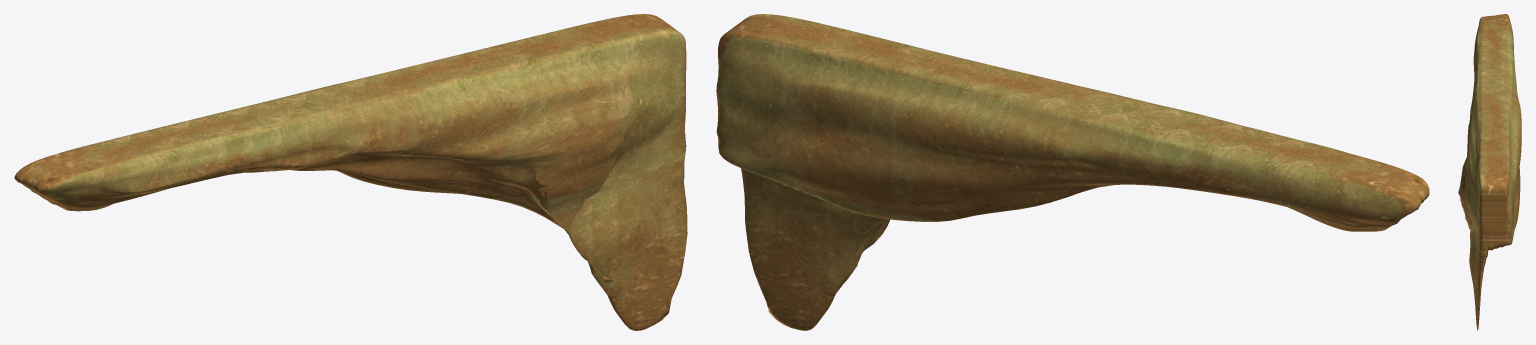
The model's file is Planice_primaria.fbx.
The picture shows the model from 3 angles, left to right: view 1: azimuth 30°, elevation 25°; view 2: azimuth 150°, elevation 25°; view 3: azimuth 270°, elevation 25°; orthographic projection. The views are drawn at different scales.
Visible parts, largest first — view 1: Cube; view 2: Cube; view 3: Cube.
Part boxes in pixels (left/top/right/bottom): Cube: left=14, top=14, right=687, bottom=330; Cube: left=716, top=14, right=1429, bottom=330; Cube: left=1458, top=14, right=1521, bottom=330.
Bounding box in the file's own units: 2490 × 1075 × 386.
